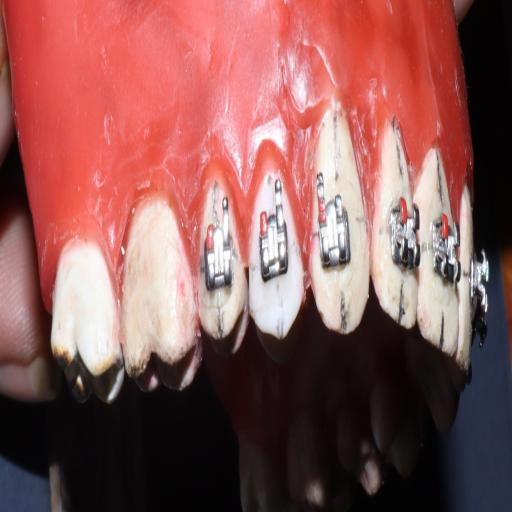incorrect_brace: (317, 196, 354, 274)
